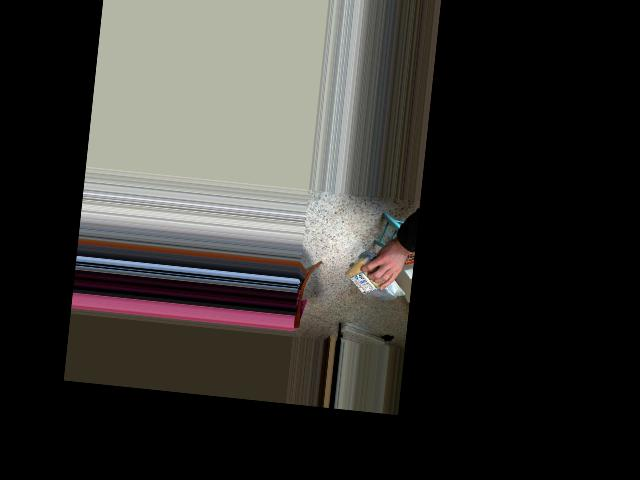cheese: (345, 260, 409, 299)
